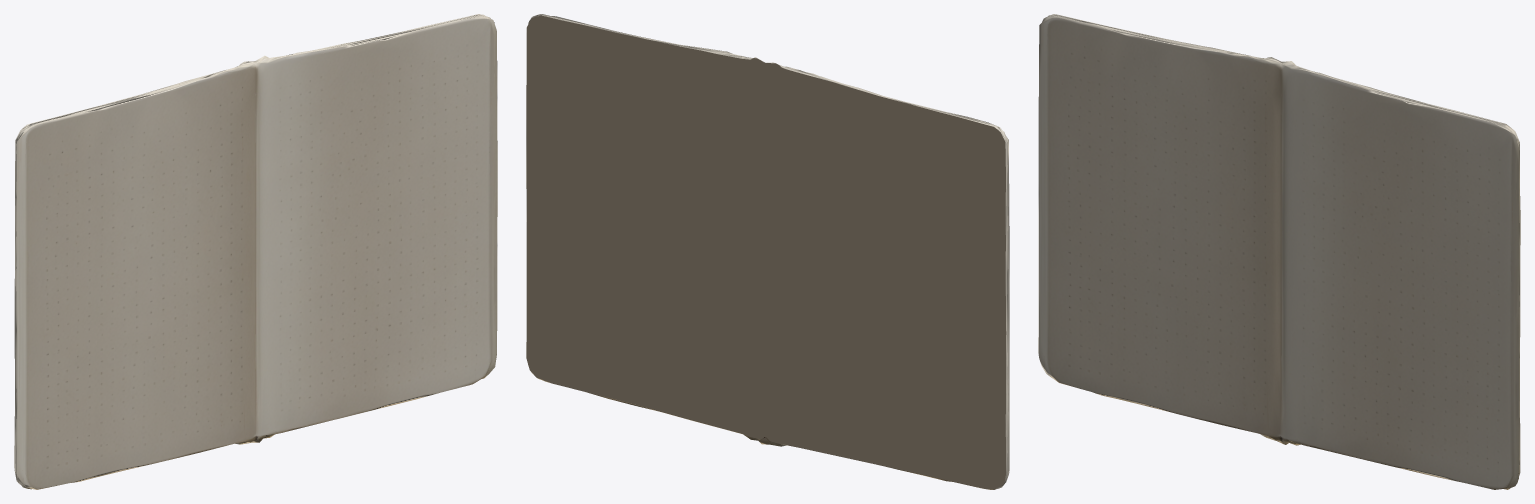
File: Note2.fbx
The picture shows the model from 3 angles, left to right: view 1: azimuth 30°, elevation 25°; view 2: azimuth 150°, elevation 25°; view 3: azimuth 330°, elevation 25°; orthographic projection.
Visible parts, largest first — view 1: material_0; view 2: material_0; view 3: material_0.
Boxes of the visible parts, x1,y1,x2,y2 form: material_0: [14, 14, 497, 489]; material_0: [526, 14, 1009, 489]; material_0: [1038, 14, 1520, 489].
Size of the model in its own units: 94.37 by 72.14 by 0.9815.
1 material, 1 textured.
